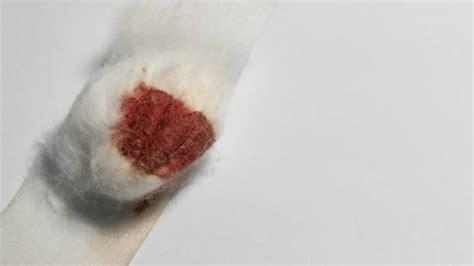cotton: (52, 44, 222, 224)
